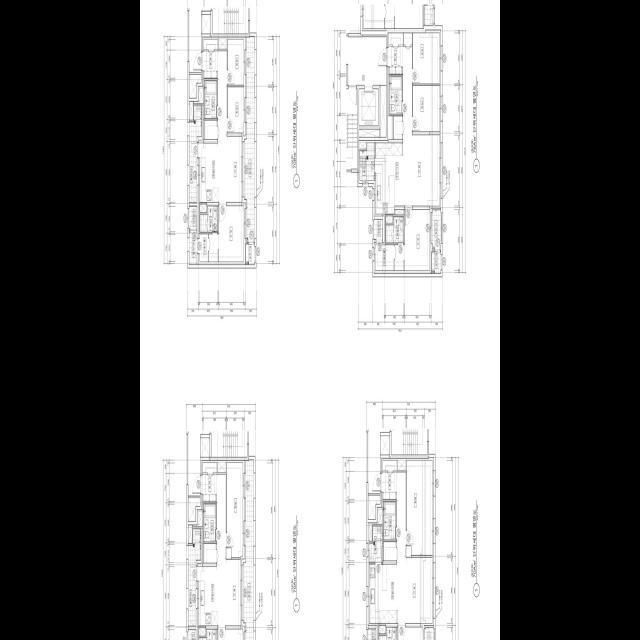background: (140, 0, 500, 640)
space_balconi: (244, 36, 255, 241), (243, 459, 254, 640), (189, 104, 202, 202), (188, 528, 201, 625), (360, 142, 375, 180), (369, 526, 383, 562), (432, 209, 441, 250), (189, 232, 197, 264), (425, 627, 434, 640)
space_bedroom: (407, 460, 432, 555), (405, 209, 430, 270), (227, 462, 243, 557), (219, 205, 244, 261), (413, 32, 440, 83), (413, 85, 440, 131), (228, 86, 244, 132), (228, 39, 244, 84), (398, 627, 423, 640), (218, 629, 243, 640)
space_dressroom: (375, 244, 404, 270), (198, 233, 218, 261)
space_elevator: (359, 88, 378, 125)
space_elevator_hall: (348, 36, 386, 85)
space_front: (201, 462, 217, 501), (381, 460, 397, 499), (387, 46, 403, 73), (203, 50, 218, 78)
space_kitchen: (375, 142, 402, 213), (369, 563, 397, 623), (198, 142, 218, 202), (197, 566, 217, 625)
space_living_room: (402, 46, 440, 205), (397, 472, 432, 623), (217, 474, 241, 625), (218, 50, 242, 201)
space_other: (380, 85, 386, 137), (188, 497, 200, 521), (368, 495, 380, 519), (189, 74, 201, 97), (383, 541, 396, 560), (204, 120, 217, 139), (203, 543, 216, 562), (374, 219, 383, 241), (394, 115, 402, 139), (200, 437, 210, 456), (380, 435, 390, 454), (201, 14, 211, 33), (189, 206, 197, 229), (389, 32, 403, 44), (359, 129, 379, 136), (204, 39, 218, 49), (368, 628, 376, 640), (404, 32, 412, 44), (188, 629, 196, 640), (218, 462, 226, 472), (398, 460, 406, 470), (219, 38, 227, 48), (189, 101, 193, 120), (199, 88, 204, 103), (378, 509, 383, 524), (198, 511, 203, 526), (188, 525, 192, 543), (386, 215, 393, 223), (200, 204, 207, 212), (379, 625, 386, 633), (199, 627, 206, 635), (369, 524, 372, 541), (395, 209, 404, 214), (360, 142, 366, 149)
space_outdoor_room: (432, 251, 441, 273), (246, 243, 255, 264)
space_toilet: (389, 75, 402, 114), (383, 501, 396, 539), (204, 80, 217, 118), (203, 503, 216, 541), (200, 205, 218, 232), (386, 216, 404, 242), (379, 627, 397, 640), (199, 629, 217, 640)
